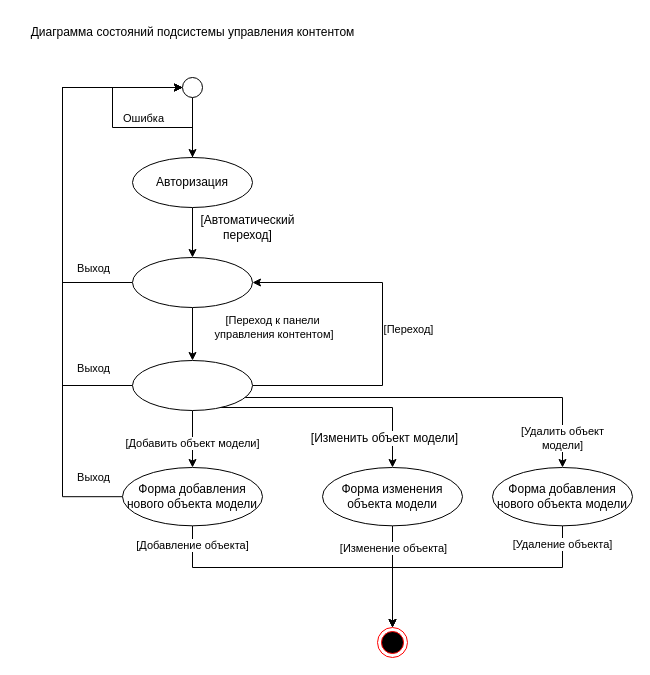
Image size: 650x675. Some labels were removed from this diagram. The shapes that lost their labels are listed below. From the top down, each one's box as (x1, y1, x2, y2) in pixels, then its label:
(132, 256, 252, 308): Стартовая панель
(132, 360, 252, 410): Список существующих моделей
